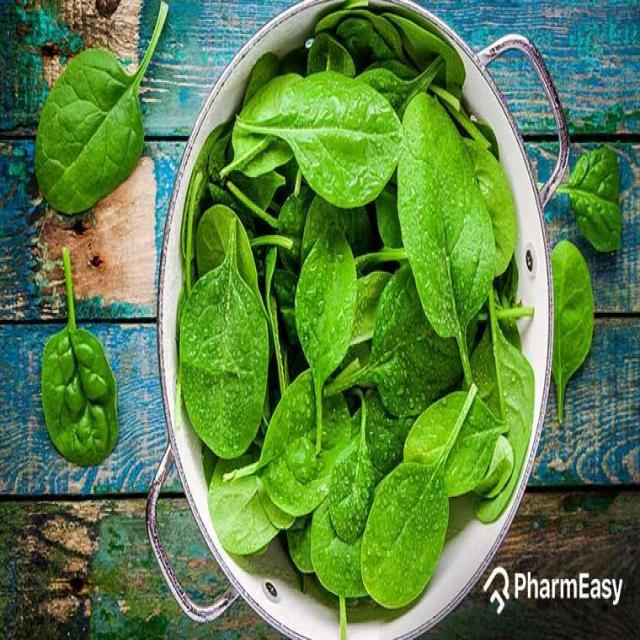Spinach: (174, 5, 542, 616), (32, 0, 177, 203), (28, 230, 132, 470)
